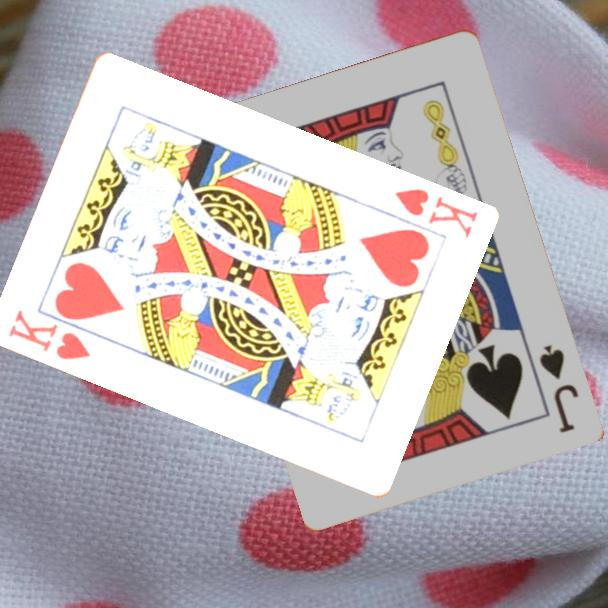h13: (390, 185, 480, 241), (4, 307, 93, 363)
s11: (535, 341, 581, 436)
